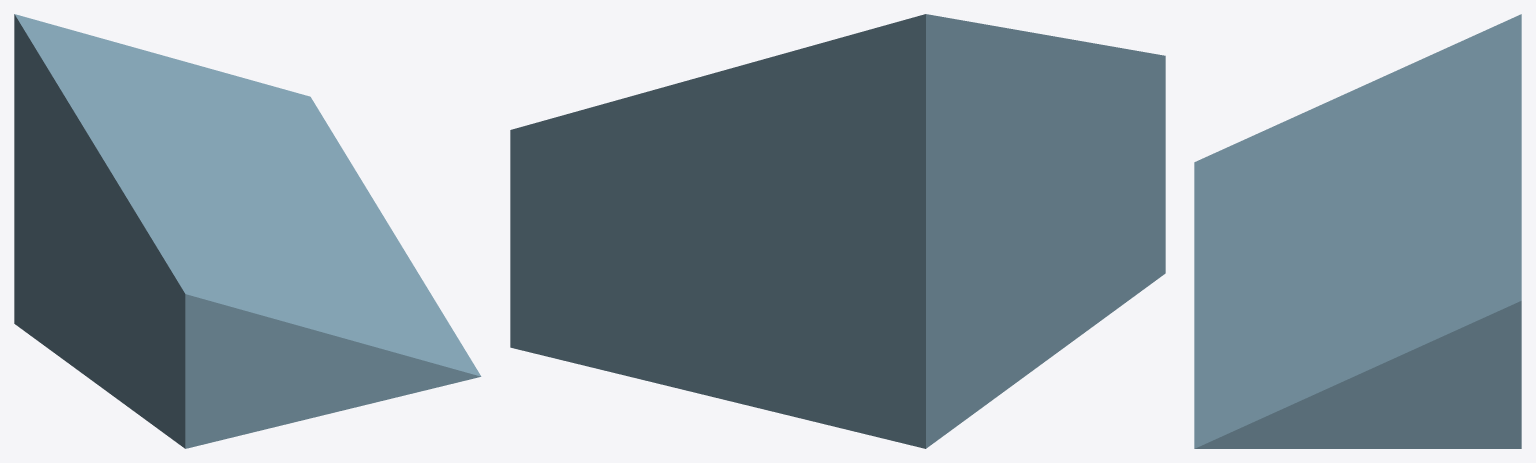
Rendered from OnOffConveyorA_OuterCorner.glb.
3 renders of one model, left to right at view 1: azimuth 30°, elevation 25°; view 2: azimuth 150°, elevation 25°; view 3: azimuth 270°, elevation 25°, orthographic. The views are drawn at different scales.
Visible parts, largest first — view 1: OnOffConveyorA_OuterCorner_body; view 2: OnOffConveyorA_OuterCorner_body; view 3: OnOffConveyorA_OuterCorner_body.
Part boxes in pixels (box(x1,y1,x2,y2)): OnOffConveyorA_OuterCorner_body: box(14, 14, 481, 448); OnOffConveyorA_OuterCorner_body: box(510, 14, 1165, 448); OnOffConveyorA_OuterCorner_body: box(1194, 14, 1521, 448).
Bounding box in the file's own units: 1 × 1 × 1.
